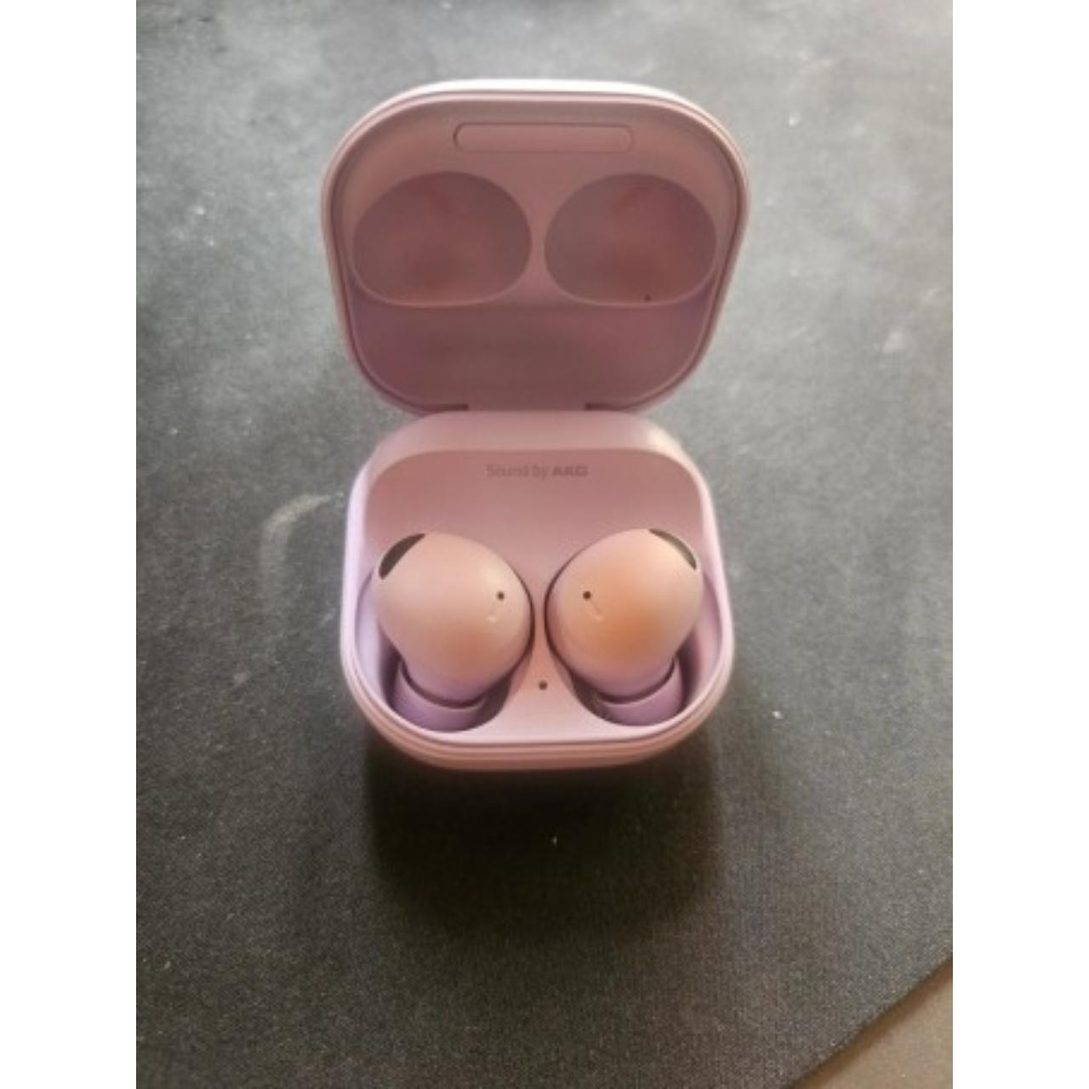Buds: (311, 71, 747, 775)
Buds_Units: (537, 525, 719, 729), (367, 529, 539, 737)
